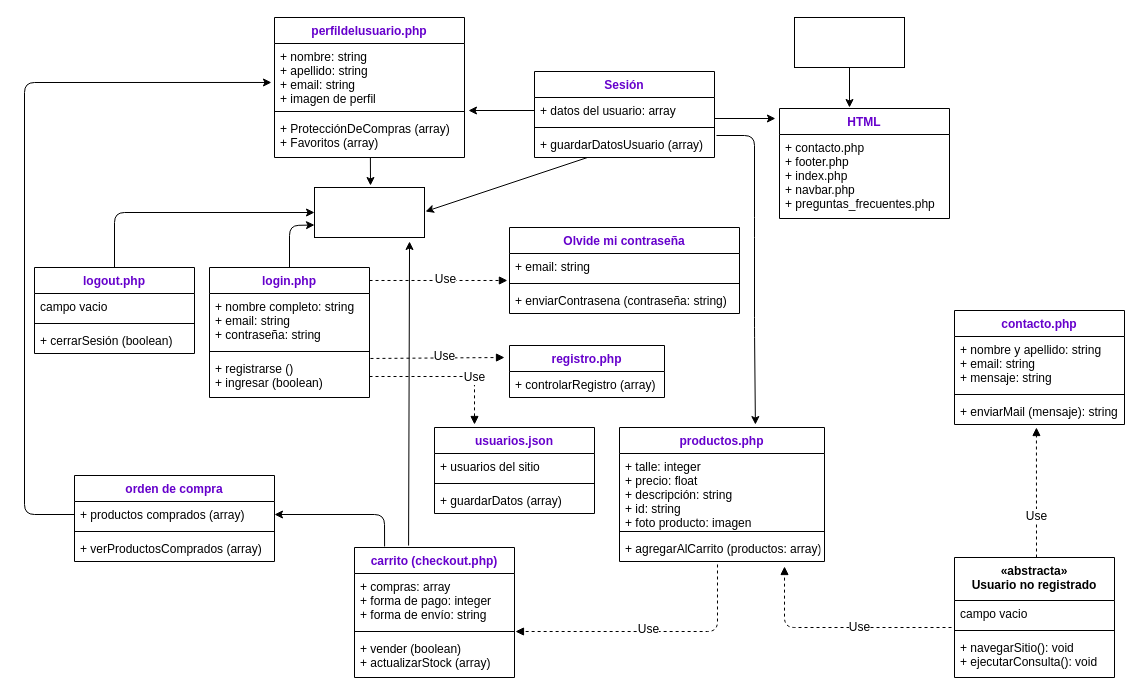
Image size: 1142x698. Some labels were removed from this diagram. The centre of each missing label's shape, as x and y in pixels:
"«abstracta» Administrador" goes at point 849,42.
"«abstracta» Usuario" goes at point 369,212.
